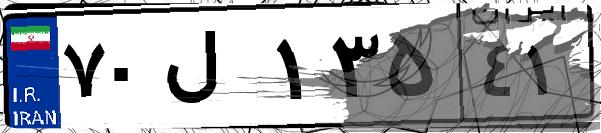0: (110, 28, 158, 98)
1: (270, 28, 330, 110), (525, 38, 570, 115)
3: (330, 28, 385, 110)
4: (475, 38, 525, 113)
5: (385, 28, 445, 110)
7: (57, 26, 110, 100)
ل: (158, 20, 270, 120)
